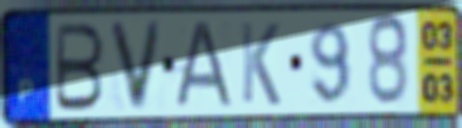8: (365, 12, 413, 112)
9: (307, 19, 357, 106)
A: (168, 19, 237, 110)
B: (52, 20, 107, 114)
K: (238, 19, 283, 108)
V: (105, 18, 166, 114)
